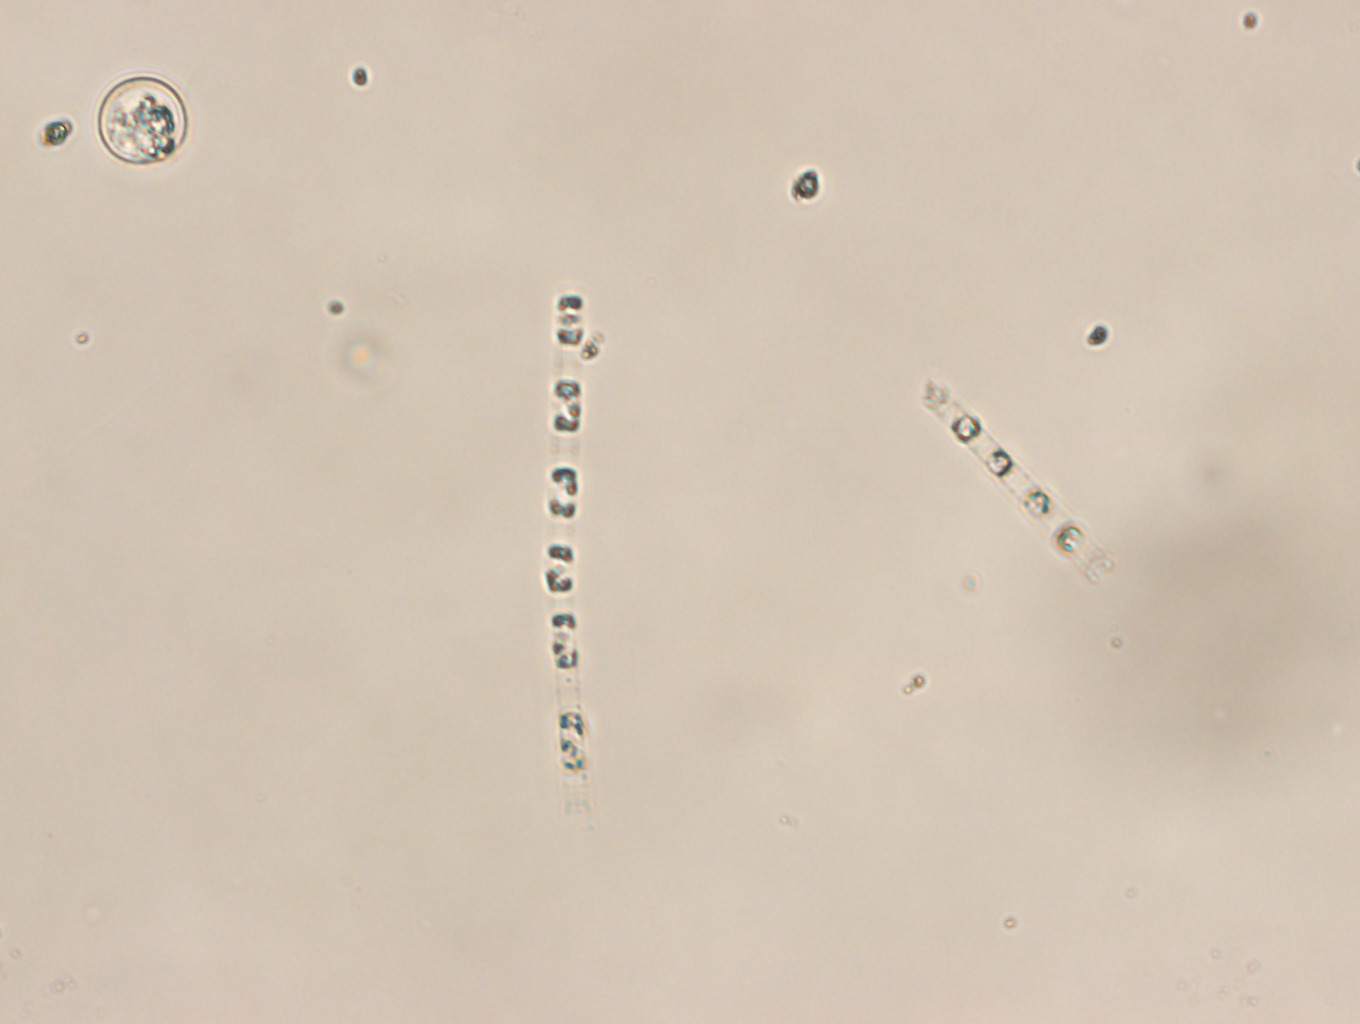skeletonema: (918, 373, 1114, 582), (543, 289, 587, 842)
